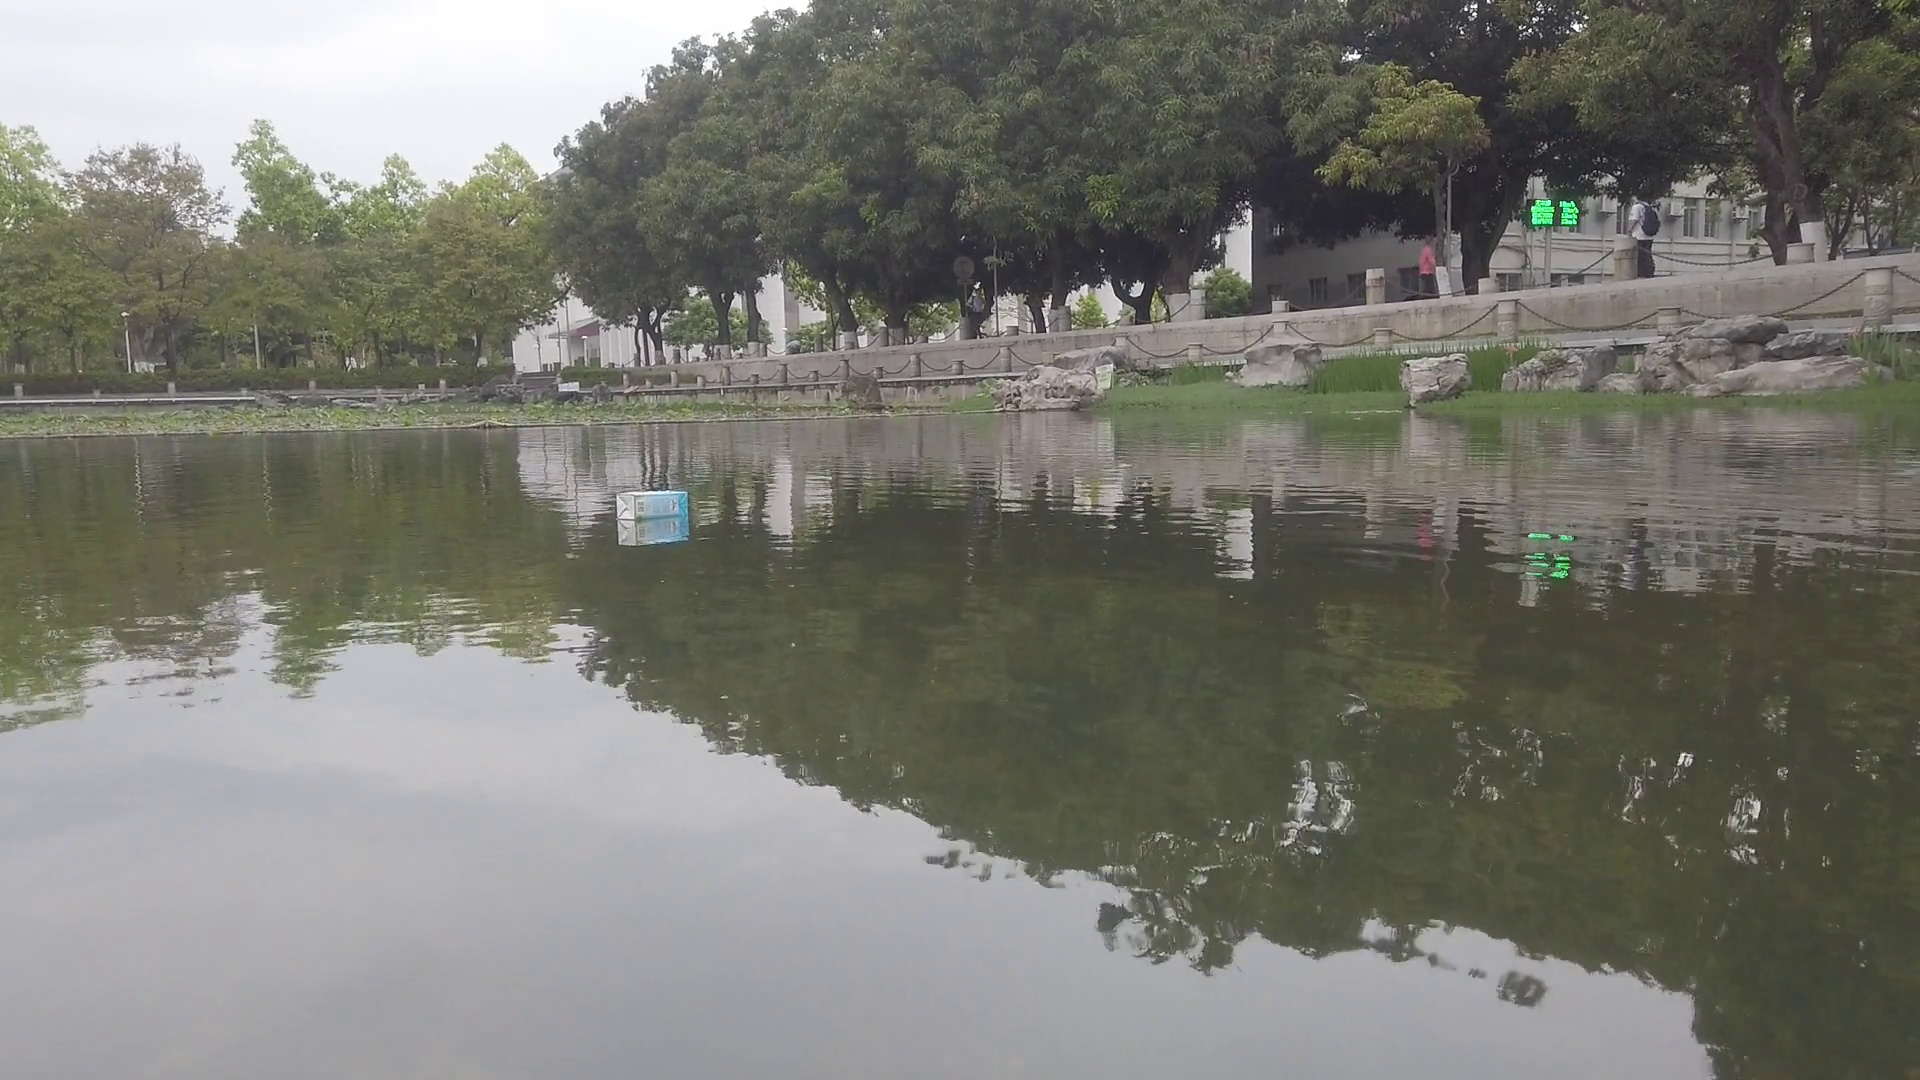carton: (616, 491, 690, 517)
